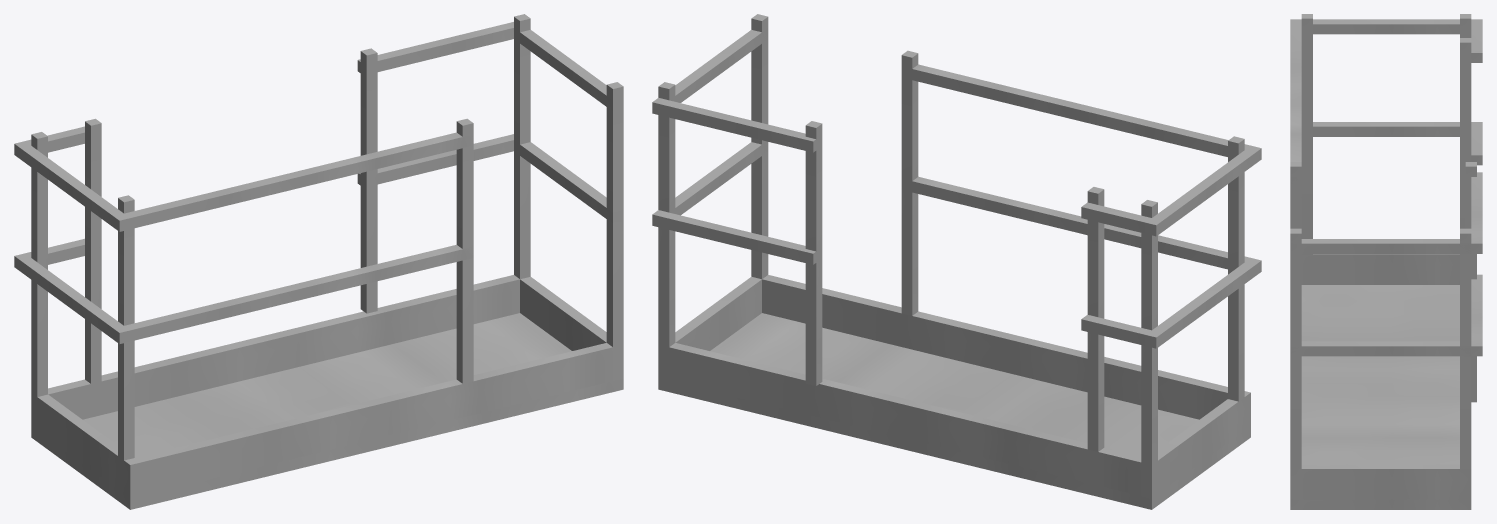
Rendered from british_signal_piece.obj.
3 renders of one model, left to right at view 1: azimuth 30°, elevation 25°; view 2: azimuth 150°, elevation 25°; view 3: azimuth 270°, elevation 25°, orthographic. The views are drawn at different scales.
Visible parts, largest first — view 1: cube; view 2: cube; view 3: cube.
Boxes of the visible parts, left/top/right/bottom form: cube: left=14, top=14, right=623, bottom=509; cube: left=652, top=14, right=1261, bottom=509; cube: left=1290, top=14, right=1482, bottom=509.
Bounding box in the file's own units: 1.47 × 0.8438 × 0.5312.
Materials: 1 (1 with a texture image).
